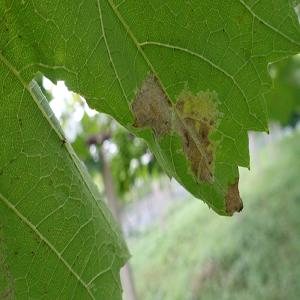Folha: (0, 0, 300, 300)
Fungo: (172, 83, 224, 185), (130, 72, 172, 141), (224, 174, 244, 216), (60, 136, 66, 148), (132, 120, 138, 128)
